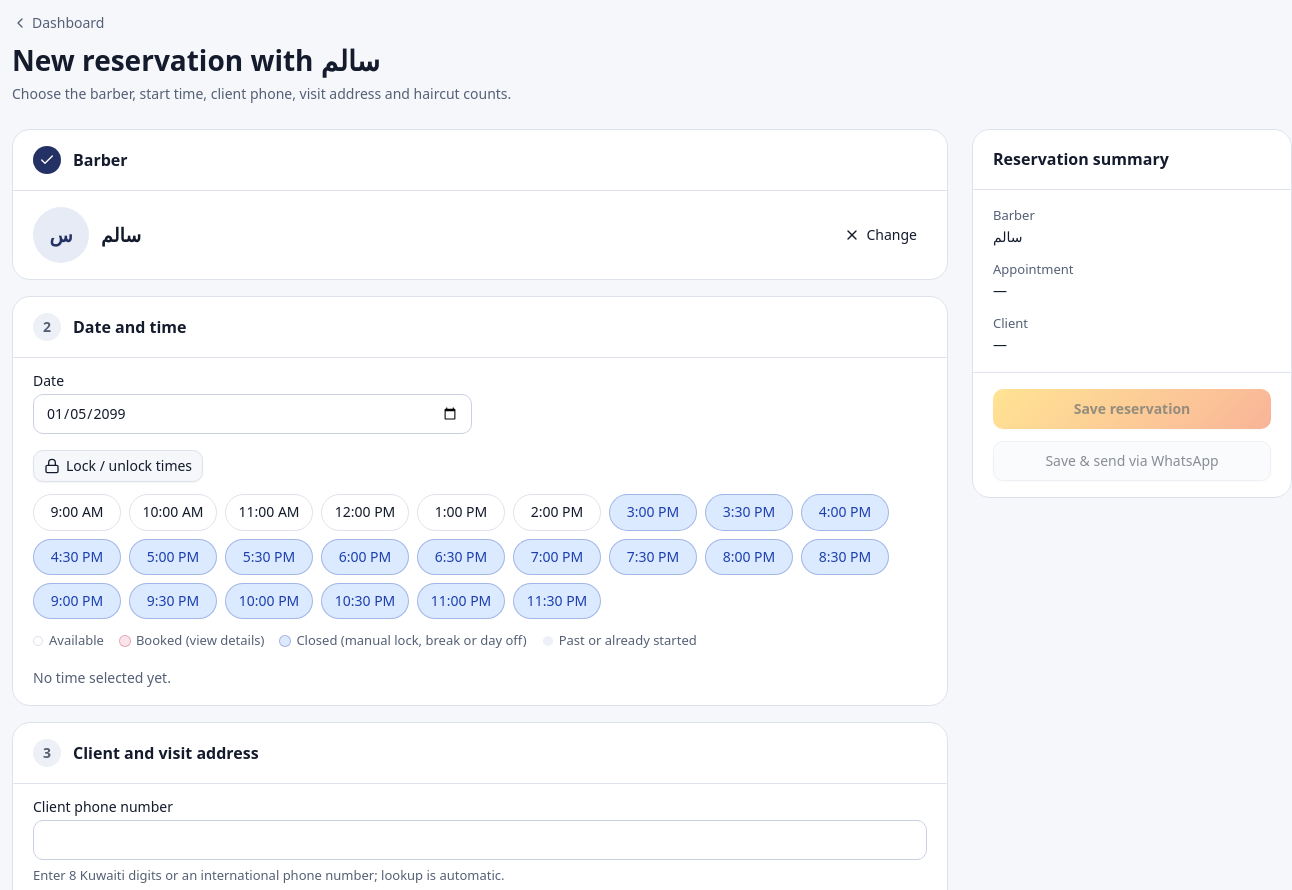
Test: disables both save buttons while the save or send is pending
Type "50000001" into the field labelled "Client phone number" at (480, 840), box [33, 820, 927, 860]
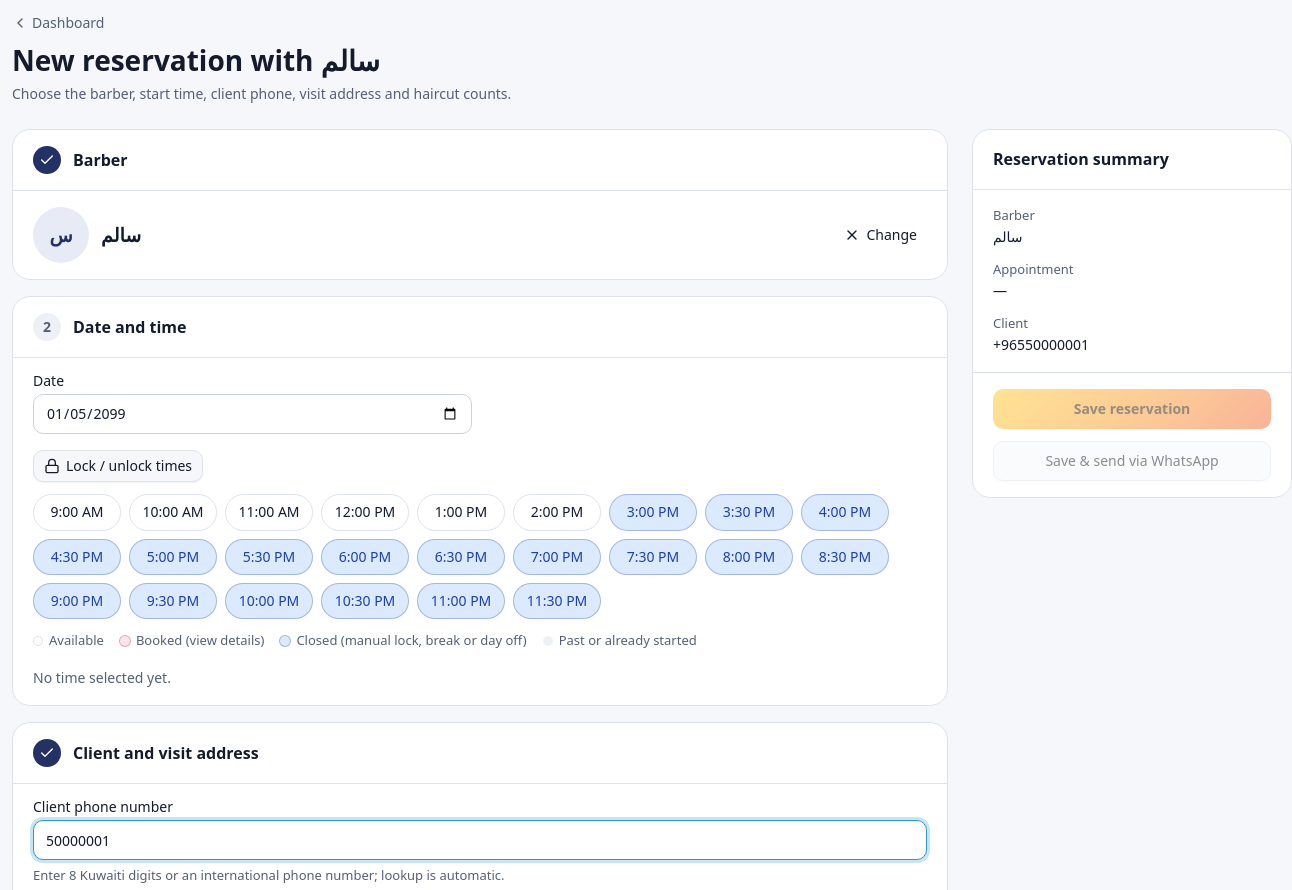
Click the radio button labelled "1:00 PM" at (461, 512), box [417, 494, 505, 531]
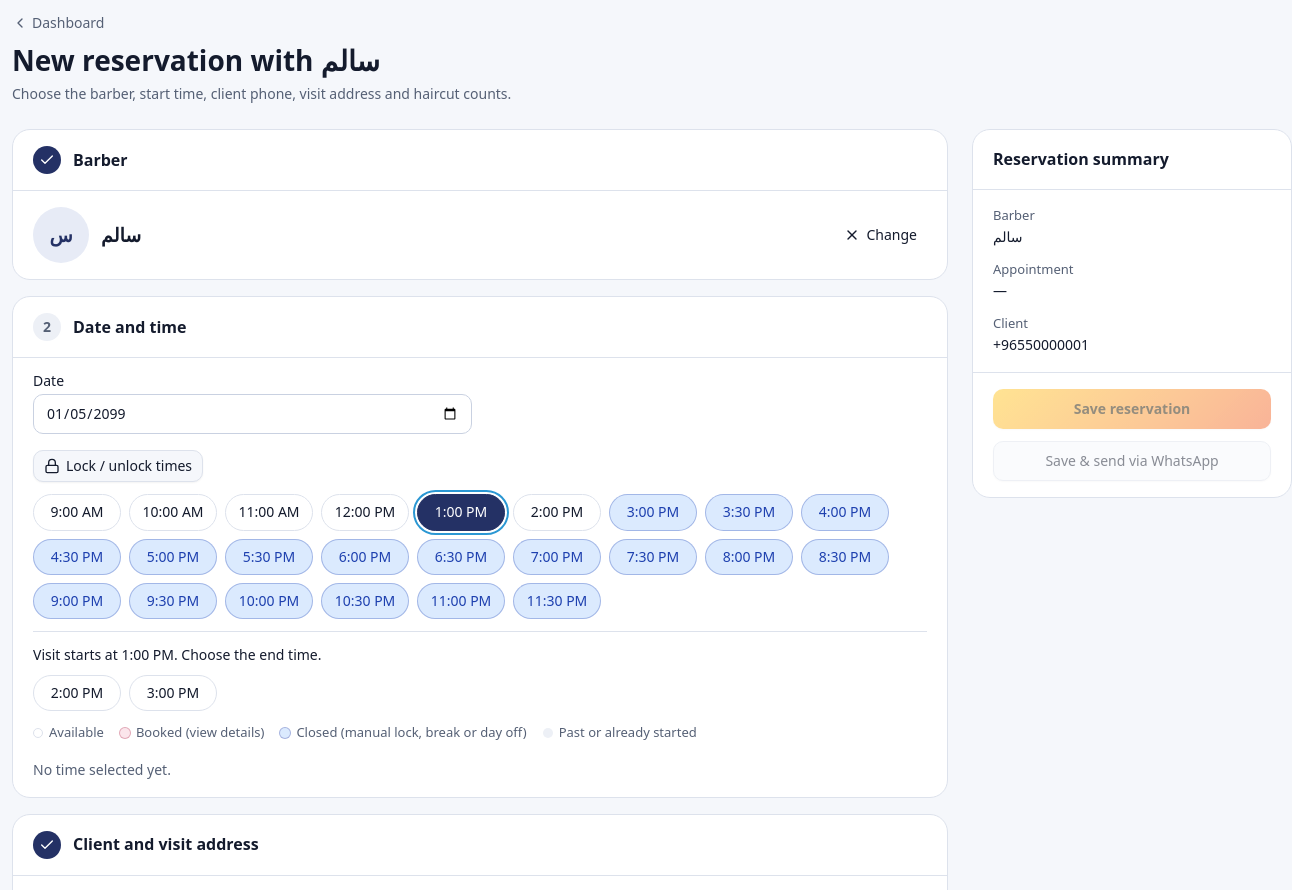
Click the radio button with aria-label "End at 2:00 PM" at (77, 693), box [33, 675, 121, 711]
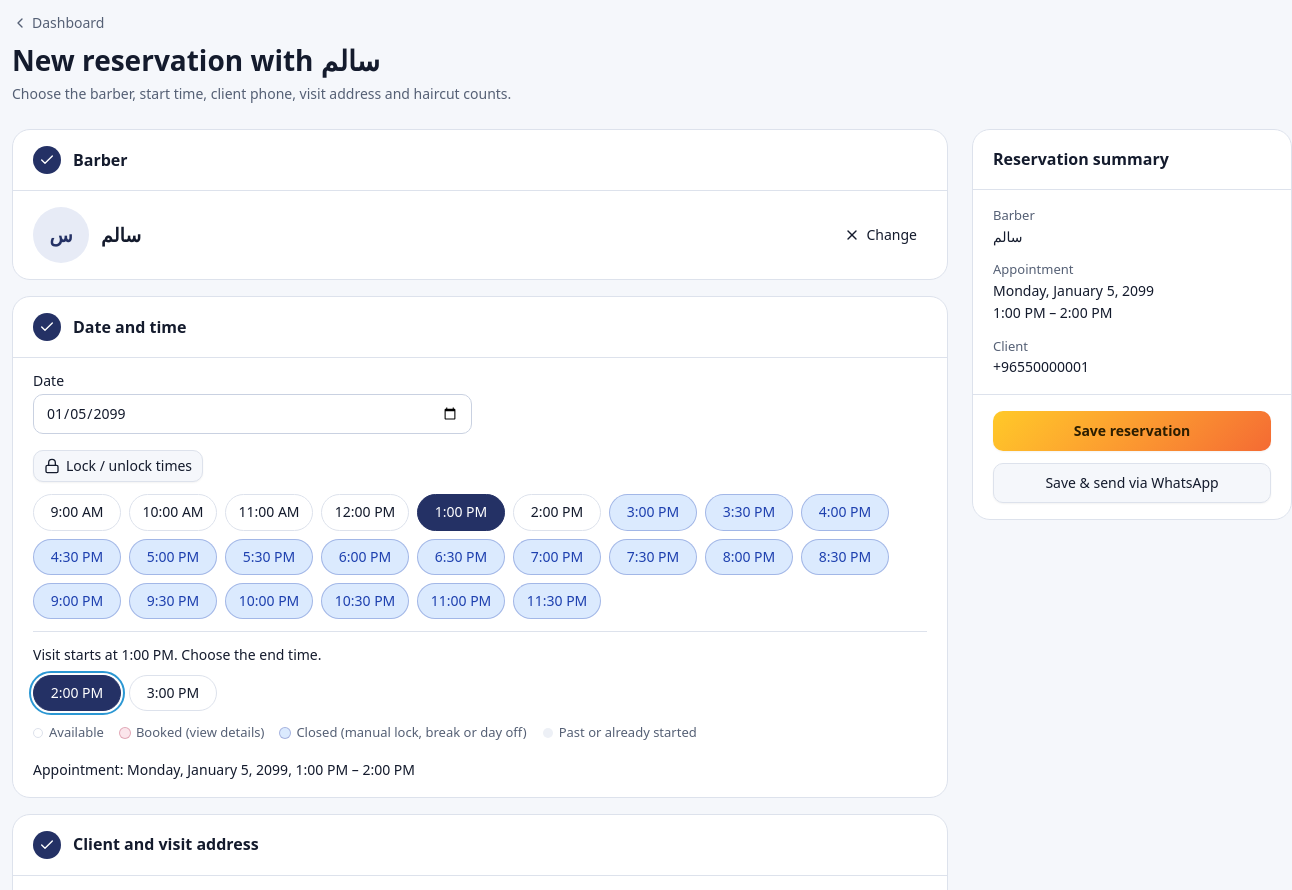
Expected: the button "Save & send via WhatsApp" is enabled
Click the button "Save & send via WhatsApp" at (1132, 483), box [993, 463, 1271, 503]
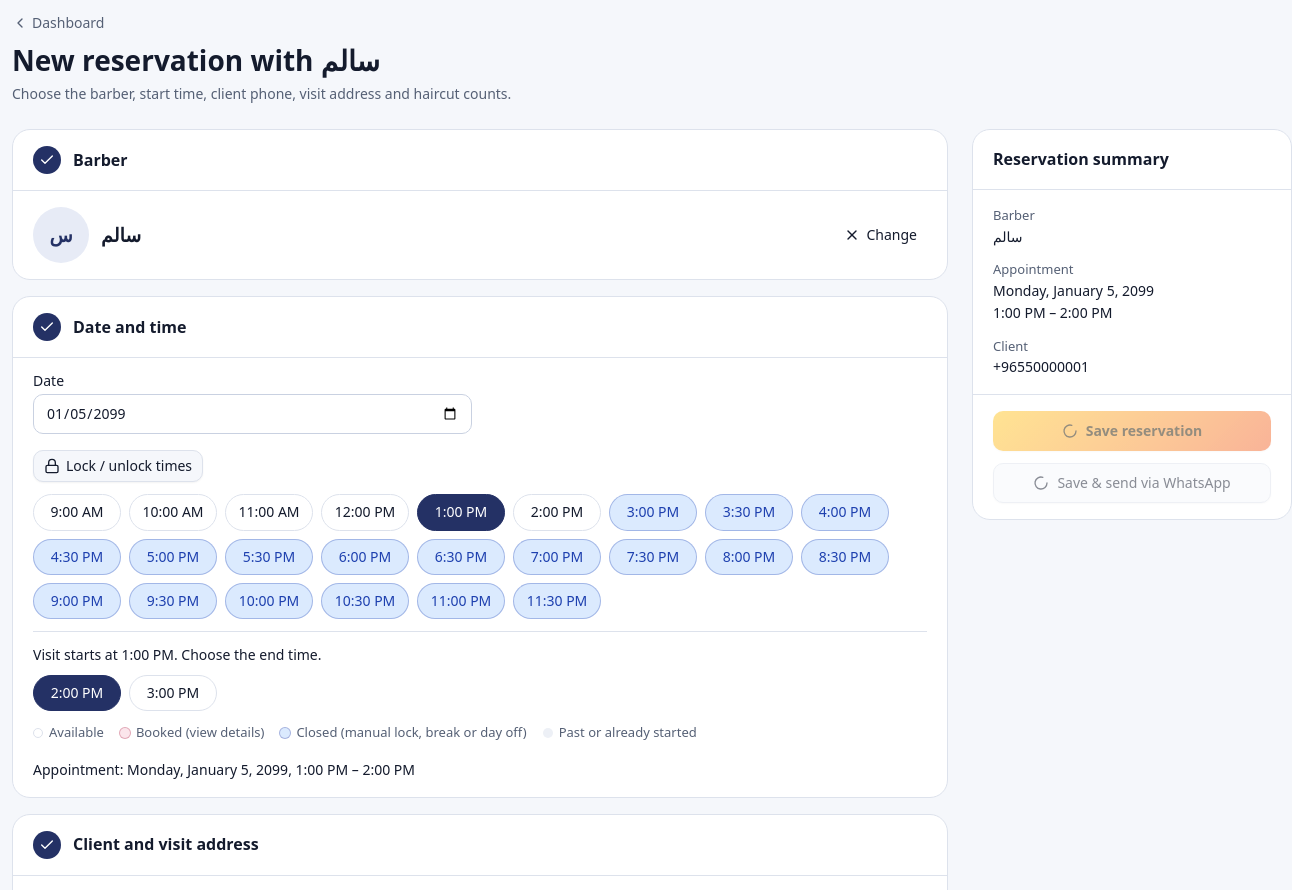
Expected: the button "Save reservation" is disabled, [993, 411, 1271, 451]
Expected: the button "Save & send via WhatsApp" is disabled, [993, 463, 1271, 503]
